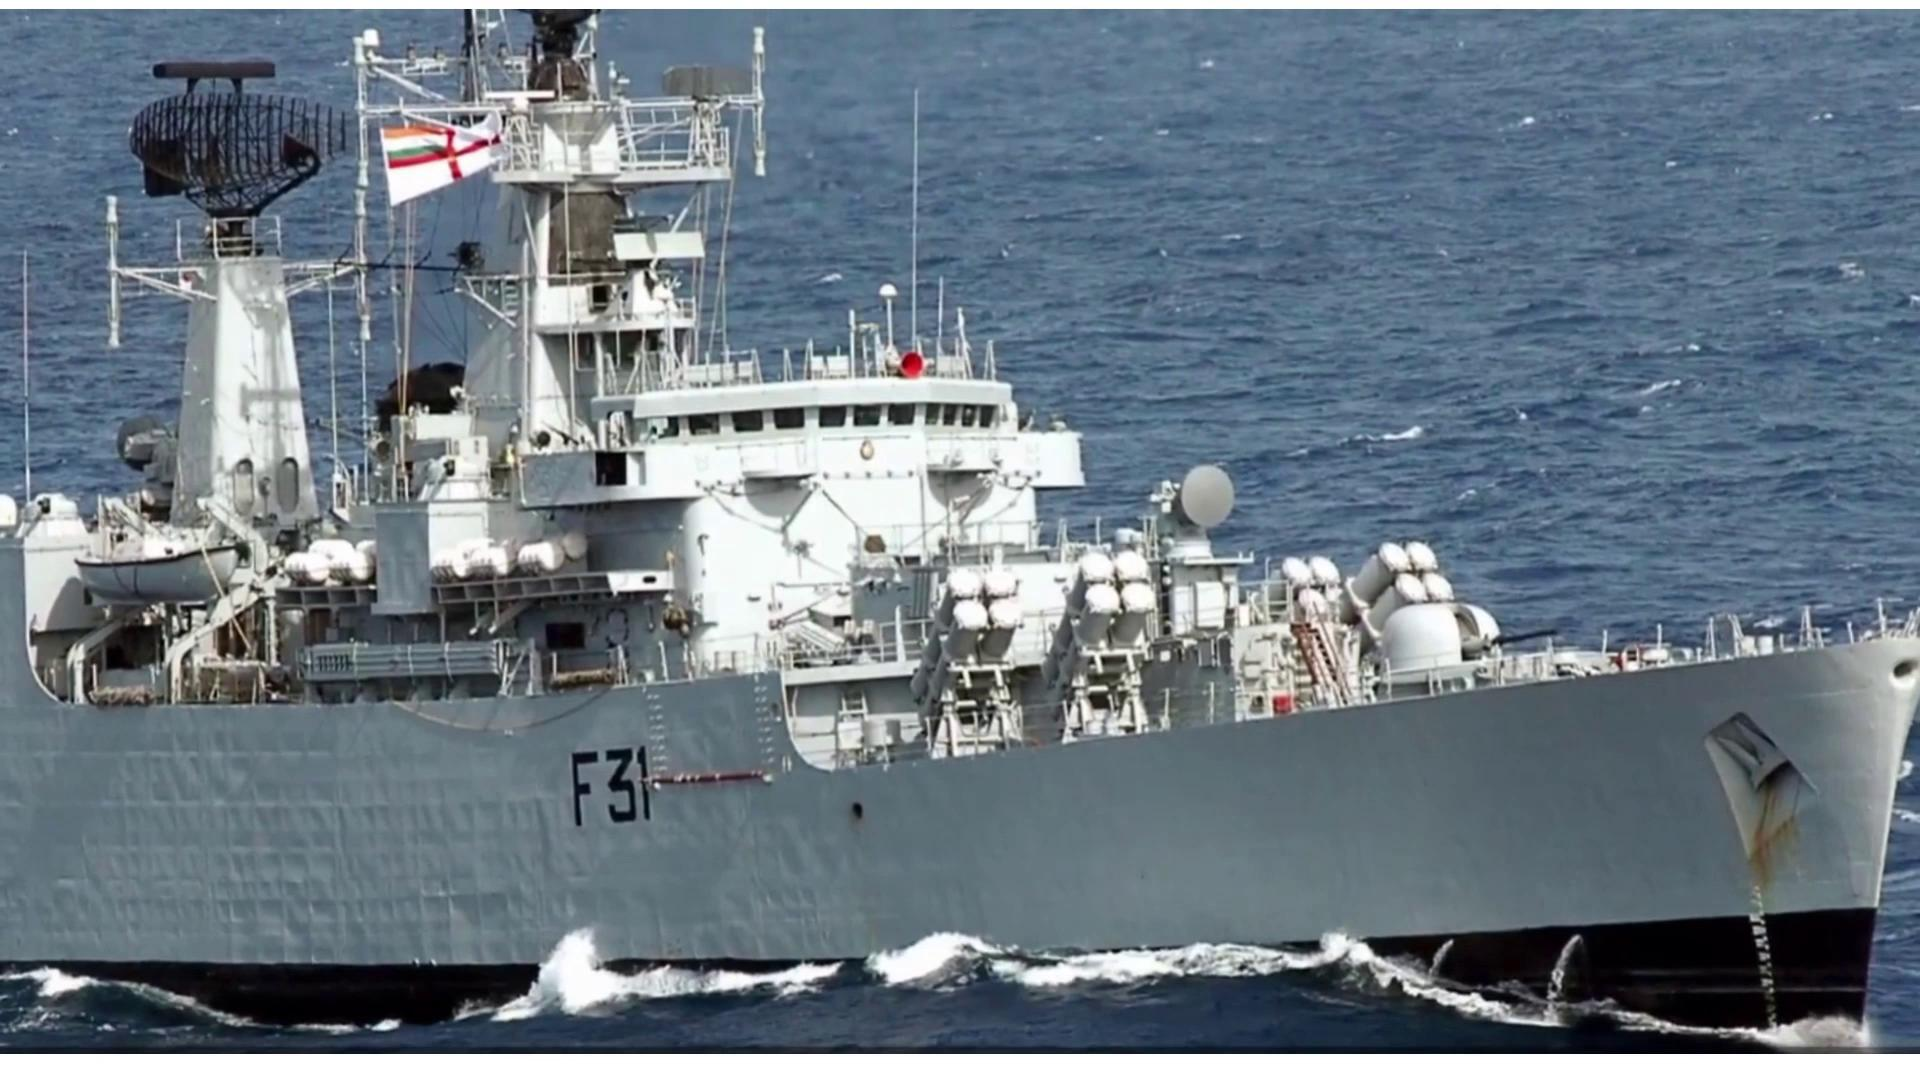OCR: (558, 735, 655, 835)
